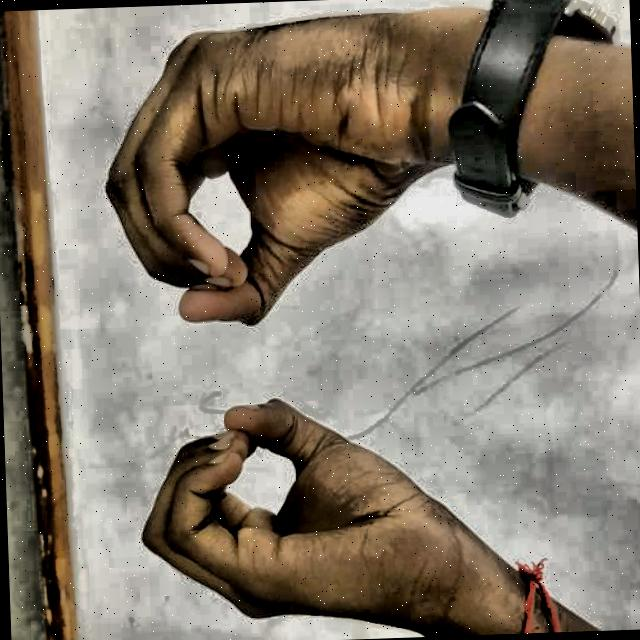Bisharga: (72, 7, 494, 640)
